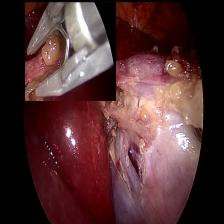Clipper: (24, 1, 115, 100)
